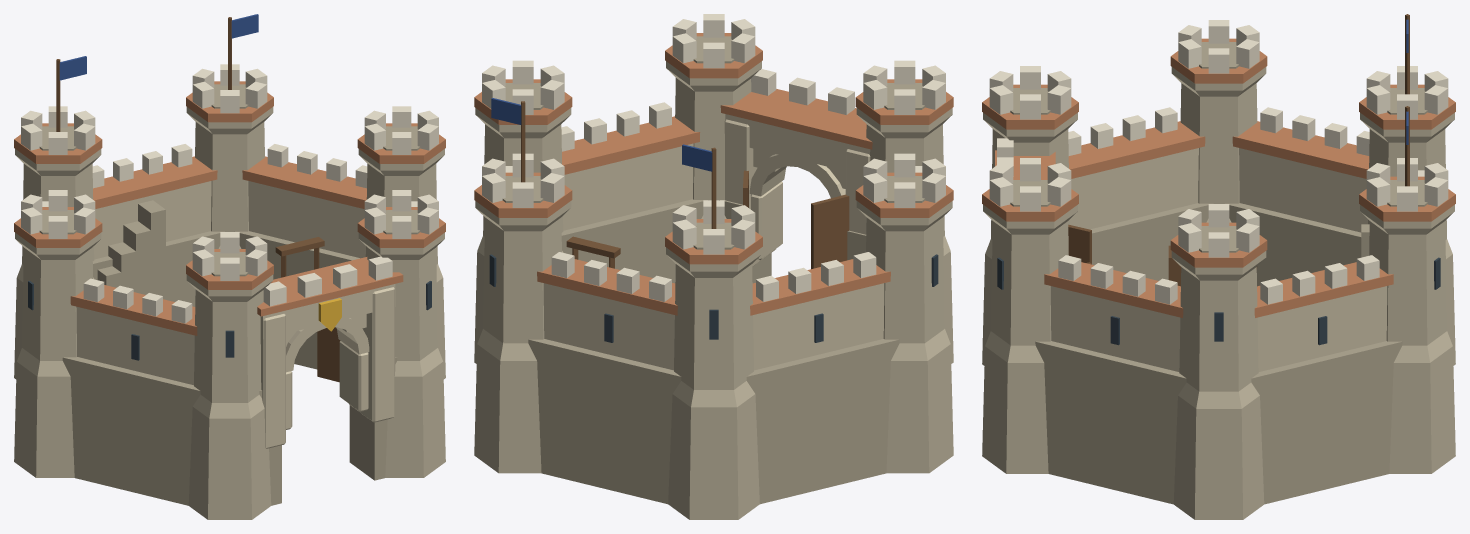
Rendered from ns-citadel.glb.
3 renders of one model, left to right at view 1: azimuth 30°, elevation 25°; view 2: azimuth 150°, elevation 25°; view 3: azimuth 270°, elevation 25°, orthographic. The views are drawn at different scales.
Parts seen in each view (by area): view 1: GW solid.015, Cube.050, GW solid.012, GW solid, Cube.051, GW solid.006, Cube.021, Cube.031, Cube.105, GW solid.009, GW solid.003, Cube.104 (+39 smaller); view 2: GW solid.009, Cube.030, Cube.040, GW solid.006, GW solid.012, Cube.031, Cube.041, Cube.011, Cube.010, GW solid, Cube.109, GW solid.003 (+46 smaller); view 3: GW solid.003, Cube.010, Cube.020, GW solid, GW solid.006, Cube.011, Cube.021, Cube.041, Cube.051, GW solid.012, Cube.040, Cube.050 (+32 smaller).
Boxes of the visible parts, x1,y1,x2,y2 form: GW solid.015: (186, 274, 273, 519); Cube.050: (62, 357, 200, 505); GW solid.012: (14, 233, 101, 477); GW solid: (358, 233, 445, 477); Cube.051: (76, 306, 194, 385); GW solid.006: (186, 107, 273, 248); Cube.021: (248, 181, 365, 258); Cube.031: (94, 181, 211, 259); Cube.105: (349, 287, 395, 422); GW solid.009: (14, 149, 101, 379); GW solid.003: (358, 149, 445, 379); Cube.104: (260, 314, 285, 448); GW solid.009: (666, 247, 761, 519); Cube.030: (528, 339, 681, 504); Cube.040: (746, 339, 899, 504); GW solid.006: (474, 201, 571, 473); GW solid.012: (856, 201, 953, 473); Cube.031: (543, 283, 674, 370); Cube.041: (753, 283, 884, 370); Cube.011: (563, 143, 693, 230); Cube.010: (561, 199, 708, 283); GW solid: (666, 61, 761, 218); Cube.109: (720, 89, 872, 149); GW solid.003: (474, 108, 571, 363); GW solid.003: (1171, 251, 1266, 519); Cube.010: (1035, 341, 1186, 504); Cube.020: (1251, 341, 1402, 504); GW solid: (982, 205, 1077, 473); GW solid.006: (1360, 205, 1455, 473); Cube.011: (1050, 286, 1180, 371); Cube.021: (1257, 286, 1387, 371); Cube.041: (1239, 148, 1368, 232); Cube.051: (1069, 148, 1198, 229); GW solid.012: (1171, 67, 1266, 222); Cube.040: (1224, 203, 1361, 286); Cube.050: (1090, 203, 1213, 280).
Size of the model in its own units: 1.24 by 0.92 by 1.13.
